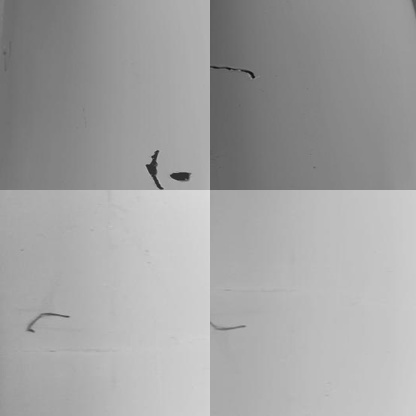fengxi: (25, 308, 70, 334), (212, 61, 259, 82), (207, 314, 246, 334)
kongdong: (142, 146, 163, 188), (169, 167, 190, 186)
